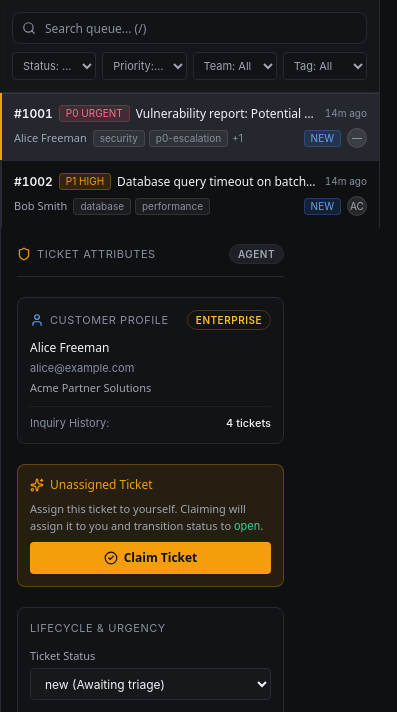
it: Ticket field conflict recovery › keeps unresolved choices on their own Tickets while switching between them
Step 1. Select "resolved (Completed)" in the dropdown labelled "Ticket Status" → x=150, y=684, box [30, 668, 271, 700]
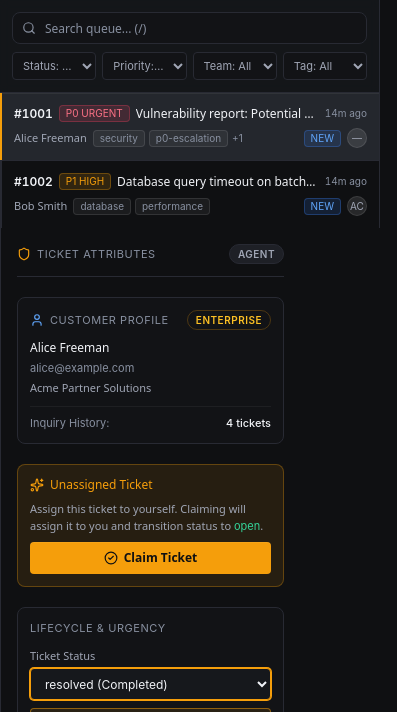
Step 2. Click the button with test id "ticket-row-ticket-2" → x=37, y=181, box [0, 160, 379, 228]
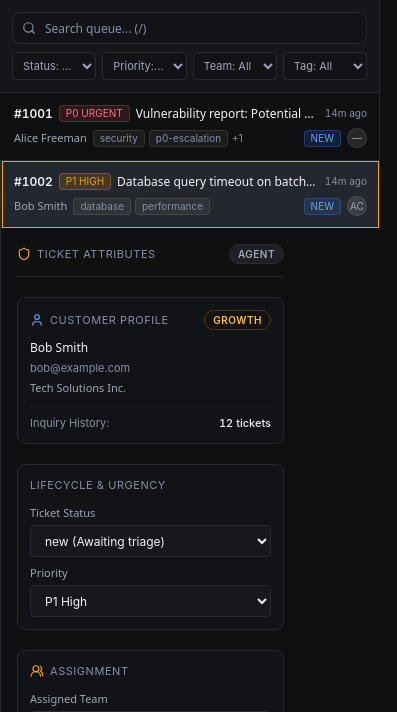
Step 3. Select "open (In progress)" in the dropdown labelled "Ticket Status" → x=150, y=541, box [30, 525, 271, 557]
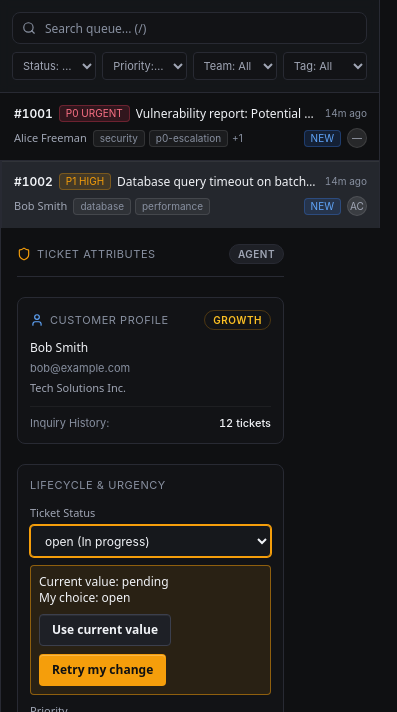
Result: the text "Current value: pending" is shown at [39, 573, 169, 590]
Step 4. Click the button with test id "ticket-row-ticket-1" → x=190, y=126, box [0, 93, 379, 160]
(page scrolled)
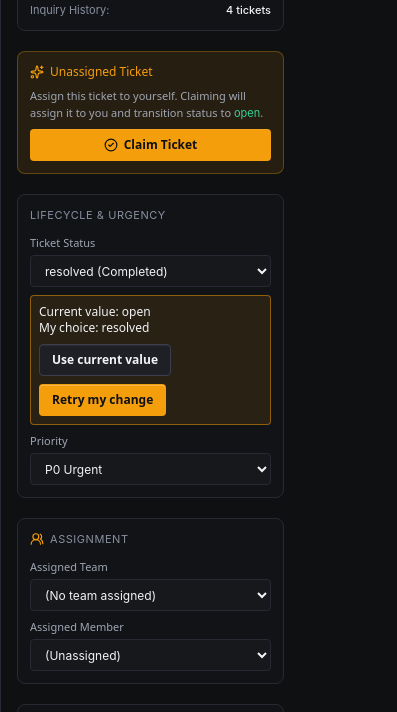
Result: the text "Current value: open" is shown at [39, 303, 151, 320]
Step 5. Click the button "Use current value" → x=105, y=360, box [39, 344, 171, 376]
(page scrolled)
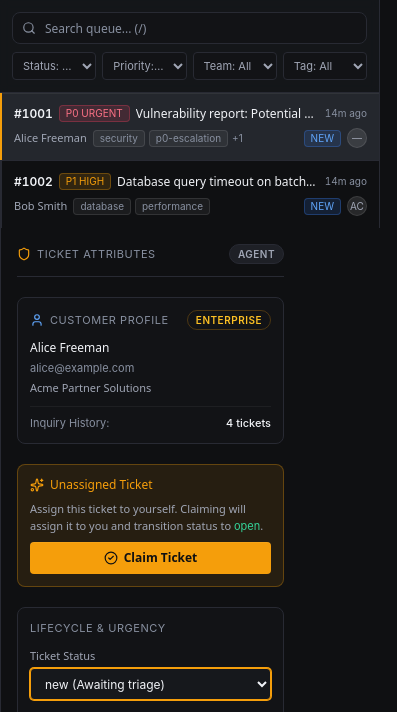
Result: the text "Current value: open" is gone
Step 6. Click the button with test id "ticket-row-ticket-2" → x=37, y=181, box [0, 160, 379, 228]
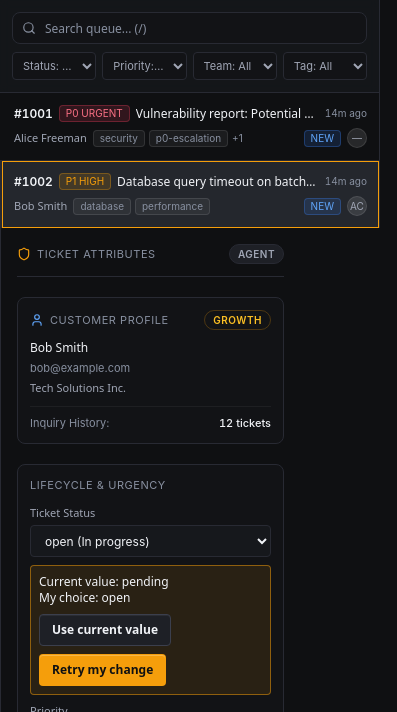
Result: the text "Current value: pending" is shown at [39, 573, 169, 590]
